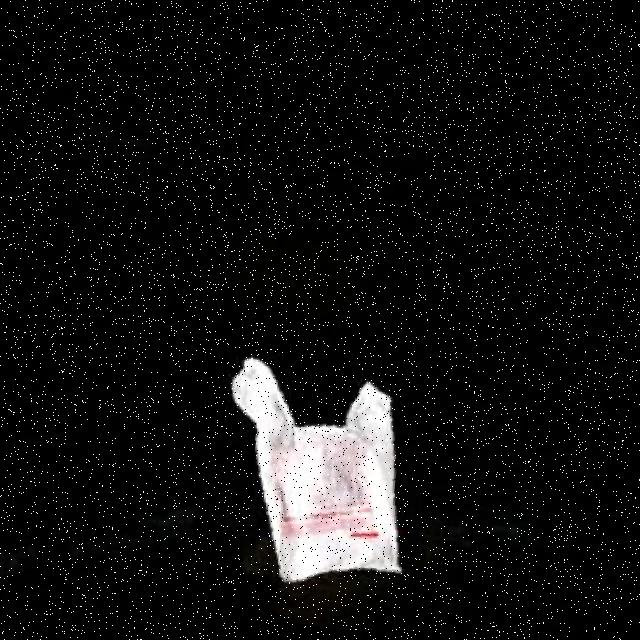plasticcover: (197, 315, 446, 618)
